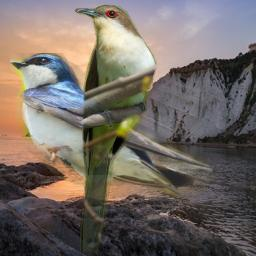Cuckoo: (74, 4, 159, 254)
Swallow: (10, 53, 213, 205)
